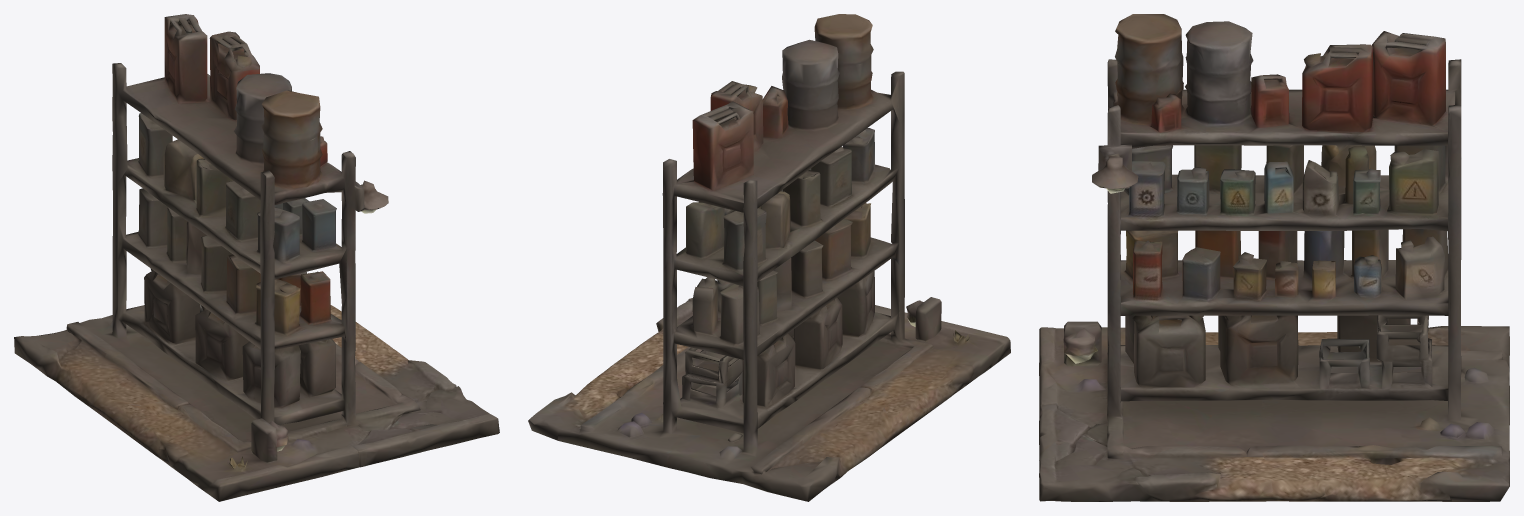
File: garage_shelf.glb
The picture shows the model from 3 angles, left to right: view 1: azimuth 30°, elevation 25°; view 2: azimuth 150°, elevation 25°; view 3: azimuth 270°, elevation 25°; orthographic projection. The views are drawn at different scales.
Parts seen in each view (by area): view 1: tripo_node_4a53f303-600f-4e45-befb-9a3bcd35b30f; view 2: tripo_node_4a53f303-600f-4e45-befb-9a3bcd35b30f; view 3: tripo_node_4a53f303-600f-4e45-befb-9a3bcd35b30f.
Part boxes in pixels (x1,y1,x2,y2): tripo_node_4a53f303-600f-4e45-befb-9a3bcd35b30f: (14, 14, 499, 501); tripo_node_4a53f303-600f-4e45-befb-9a3bcd35b30f: (528, 14, 1010, 501); tripo_node_4a53f303-600f-4e45-befb-9a3bcd35b30f: (1039, 14, 1509, 501).
Bounding box in the file's own units: 0.8071 × 0.9048 × 1.
Materials: 1 (1 with a texture image).
